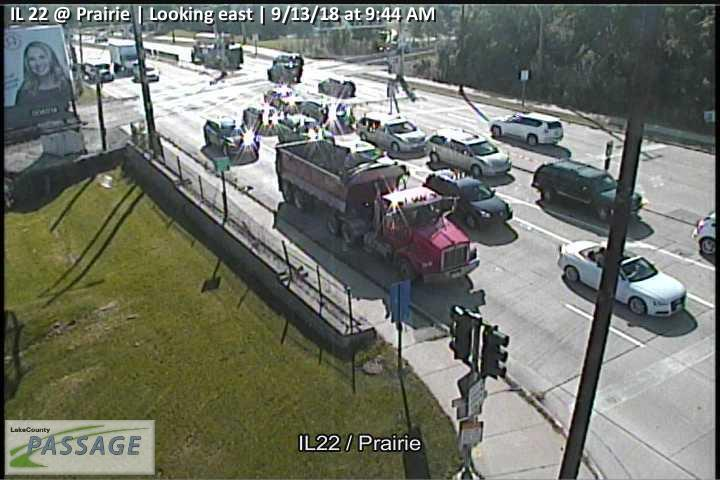SUV: (530, 157, 644, 221), (422, 167, 514, 228), (426, 127, 513, 177), (354, 110, 427, 153), (487, 111, 564, 146), (204, 115, 259, 159), (318, 77, 357, 97)
Sedan: (558, 239, 688, 317)
Truck: (274, 137, 481, 284)
